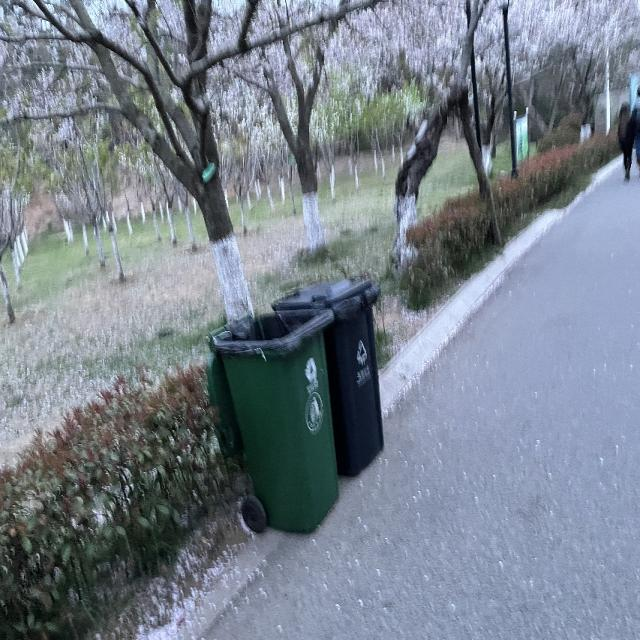garbage_bin: (206, 308, 339, 534), (271, 277, 383, 475)
